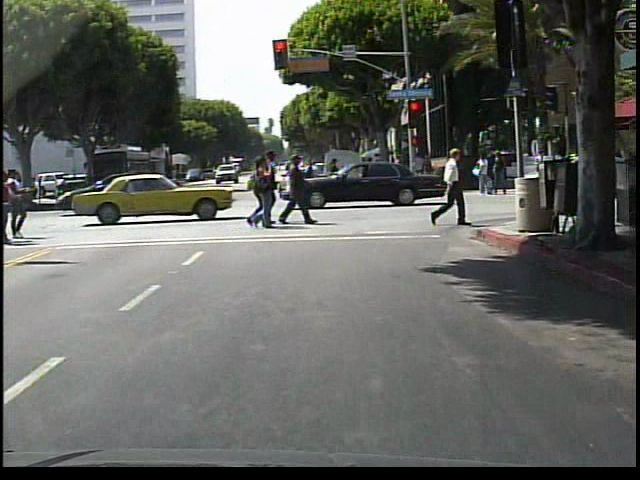person: (423, 141, 475, 240)
